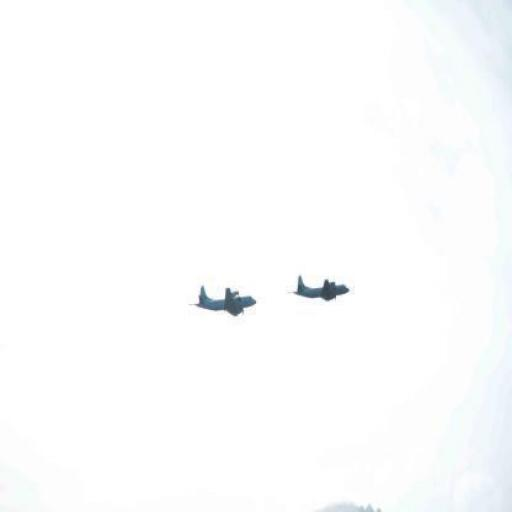aircraft: (191, 272, 257, 325), (290, 272, 354, 311)
